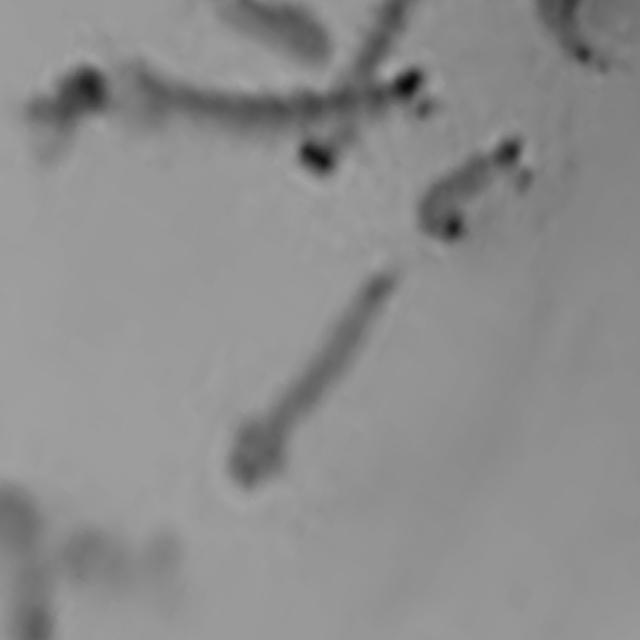larvas: (216, 264, 401, 503), (291, 1, 417, 183), (49, 70, 422, 125), (214, 7, 344, 73), (66, 522, 185, 594), (5, 479, 49, 640), (447, 132, 524, 208), (539, 0, 594, 87), (415, 177, 474, 254)
